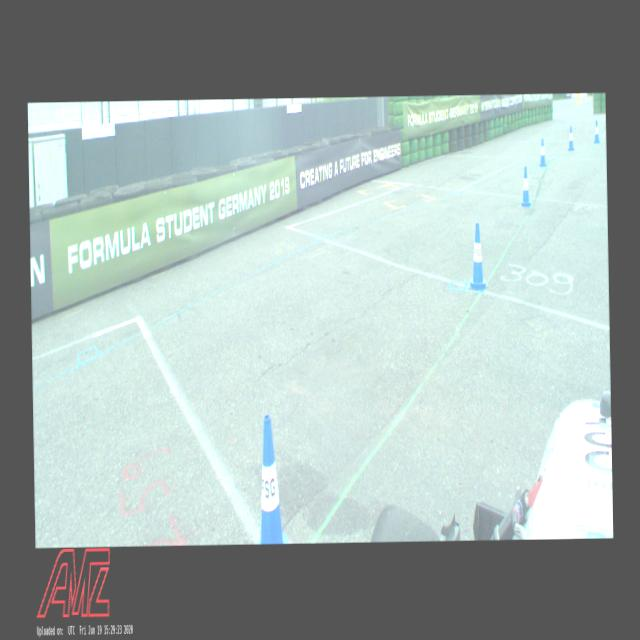blue_cone: (254, 413, 290, 544), (467, 222, 487, 291), (520, 166, 530, 207), (538, 137, 546, 166), (568, 126, 574, 150), (593, 120, 599, 142)
